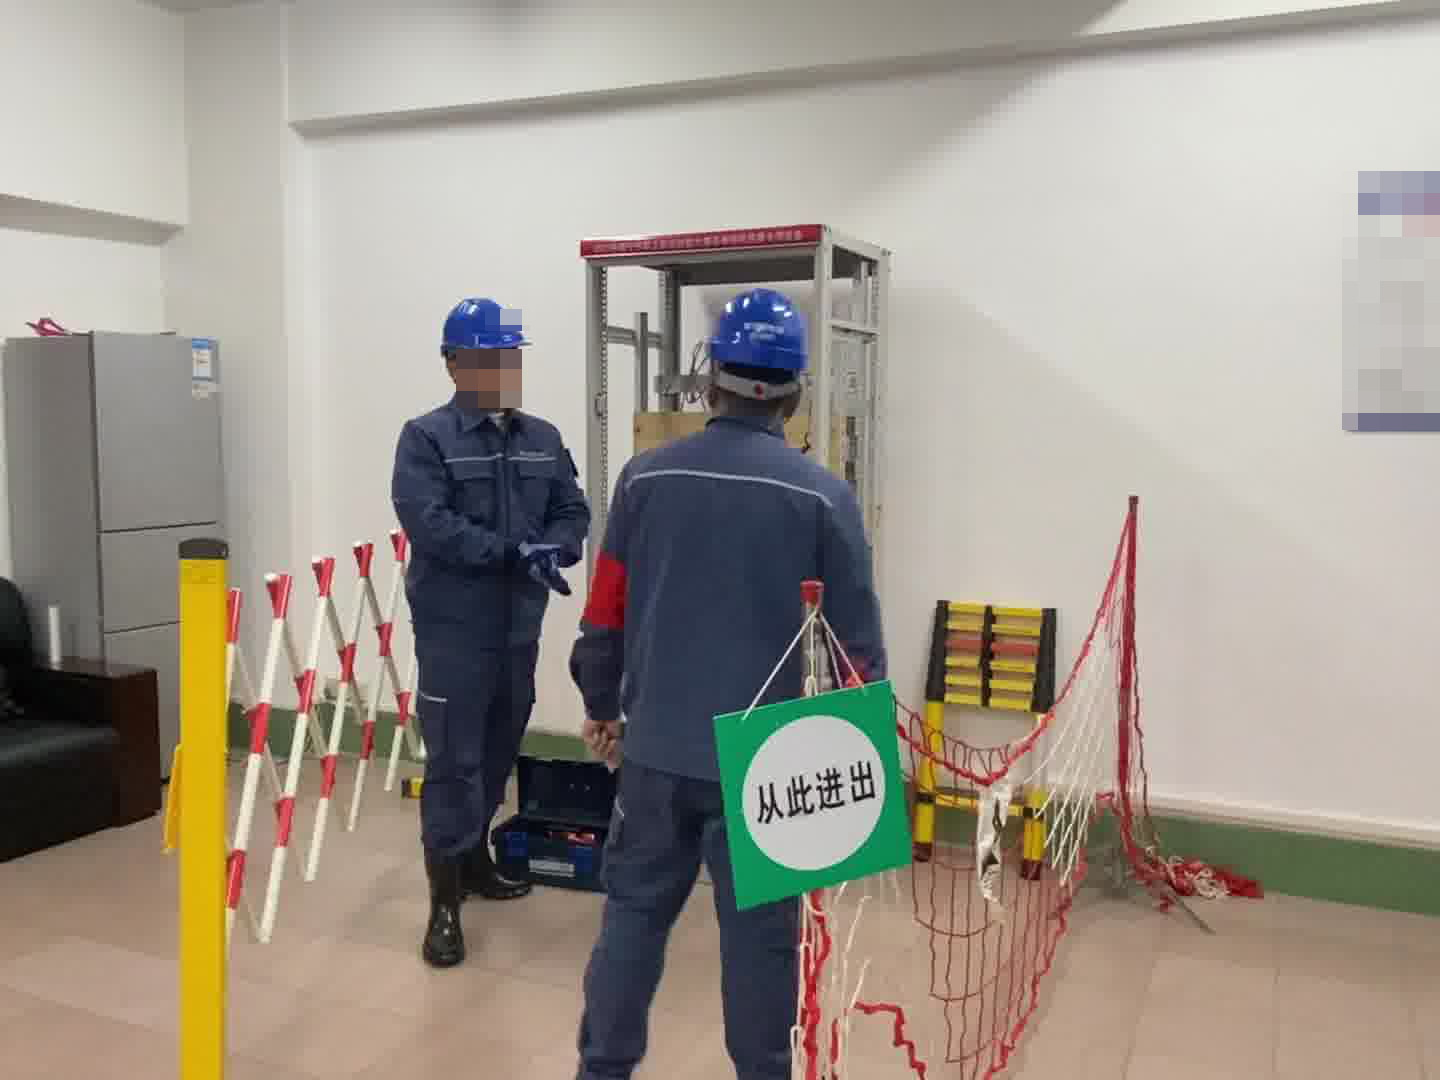badge: (582, 550, 630, 632)
downsuit: (575, 780, 804, 1080), (411, 641, 540, 874)
glove: (514, 538, 573, 598)
halt: (703, 285, 814, 417), (435, 296, 531, 403)
hand: (582, 720, 625, 773)
intosign: (709, 681, 915, 910)
person: (568, 279, 885, 1079), (388, 294, 581, 971)
shoe: (417, 838, 535, 972)
upsuit: (577, 420, 878, 740), (392, 400, 592, 632)
